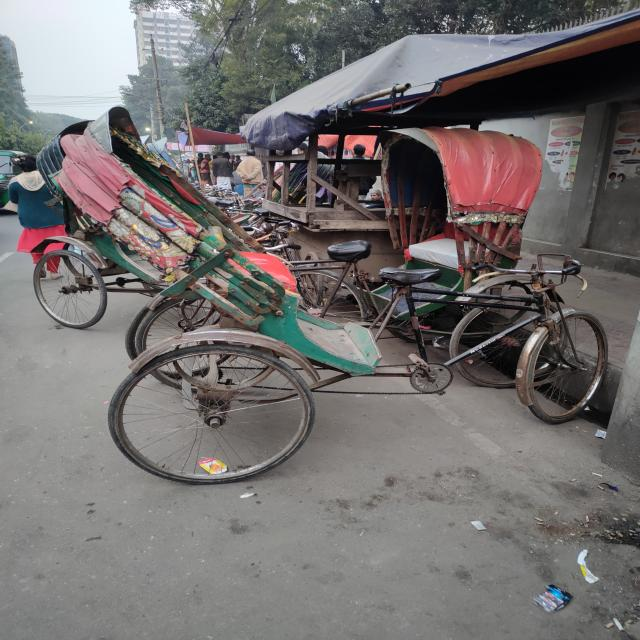rikshaw: (28, 117, 619, 453), (248, 101, 558, 388)
